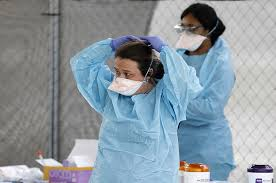masked: (111, 33, 156, 97), (167, 6, 223, 53)
